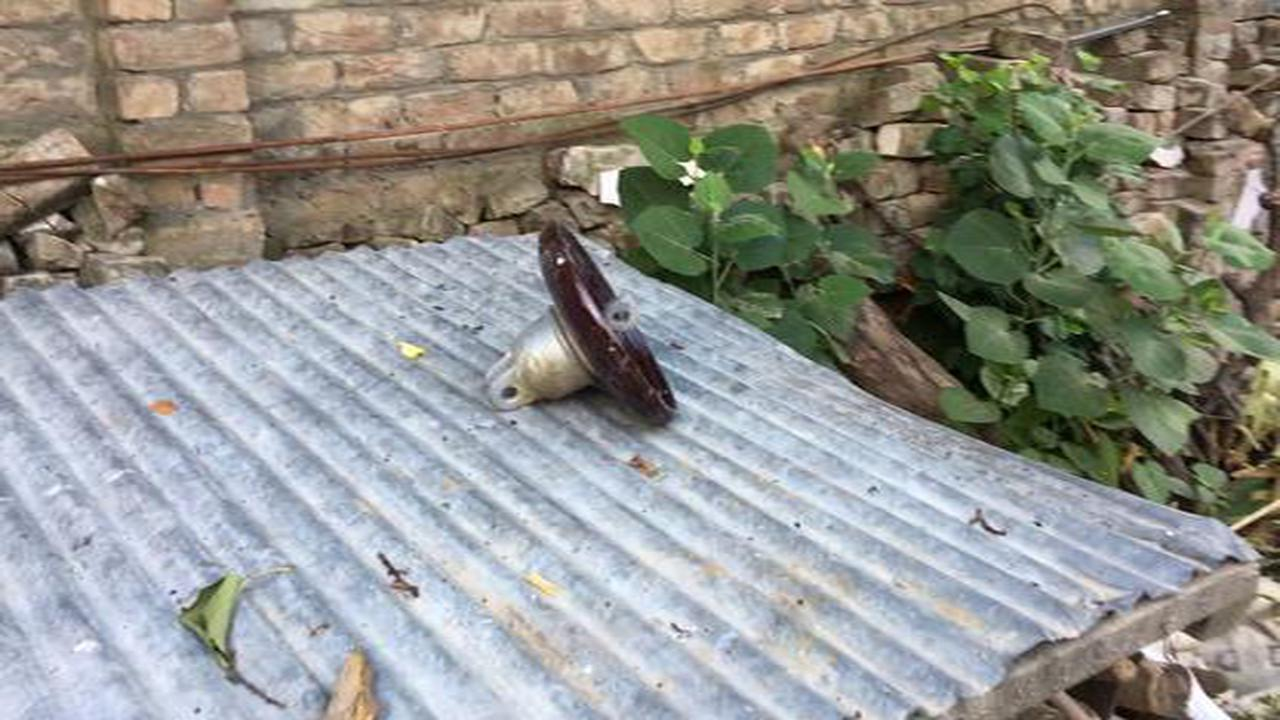insulator_disc: (477, 222, 682, 431)
